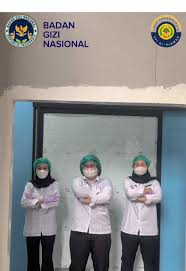mask: (79, 168, 102, 181), (32, 168, 49, 181), (131, 167, 152, 177)
